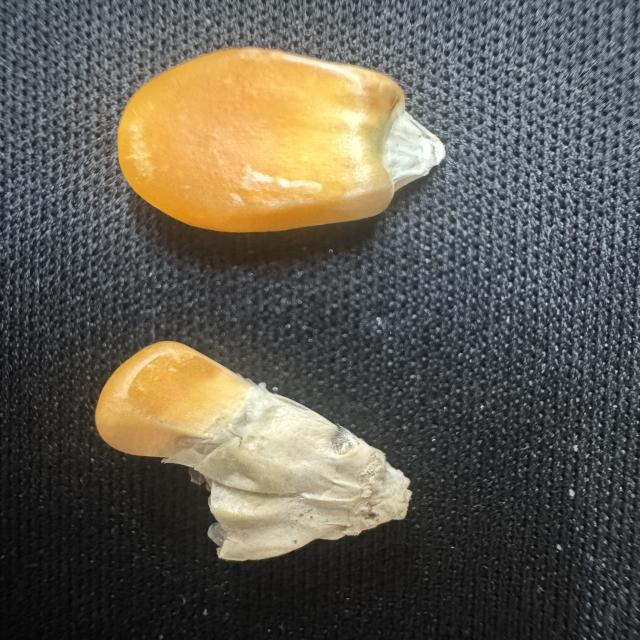Bad-Seed: (79, 335, 426, 578)
Good-Seed: (96, 42, 448, 245)
